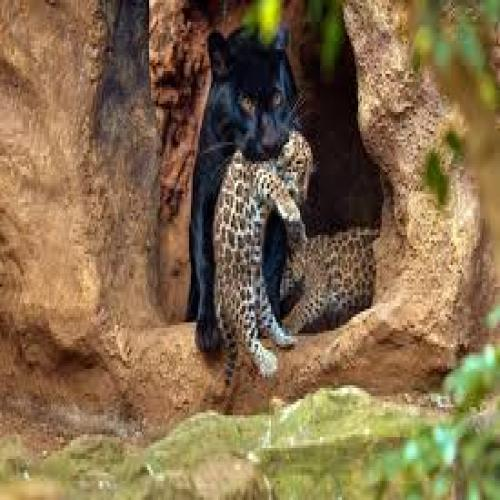panther-endangered: (189, 15, 298, 352)
